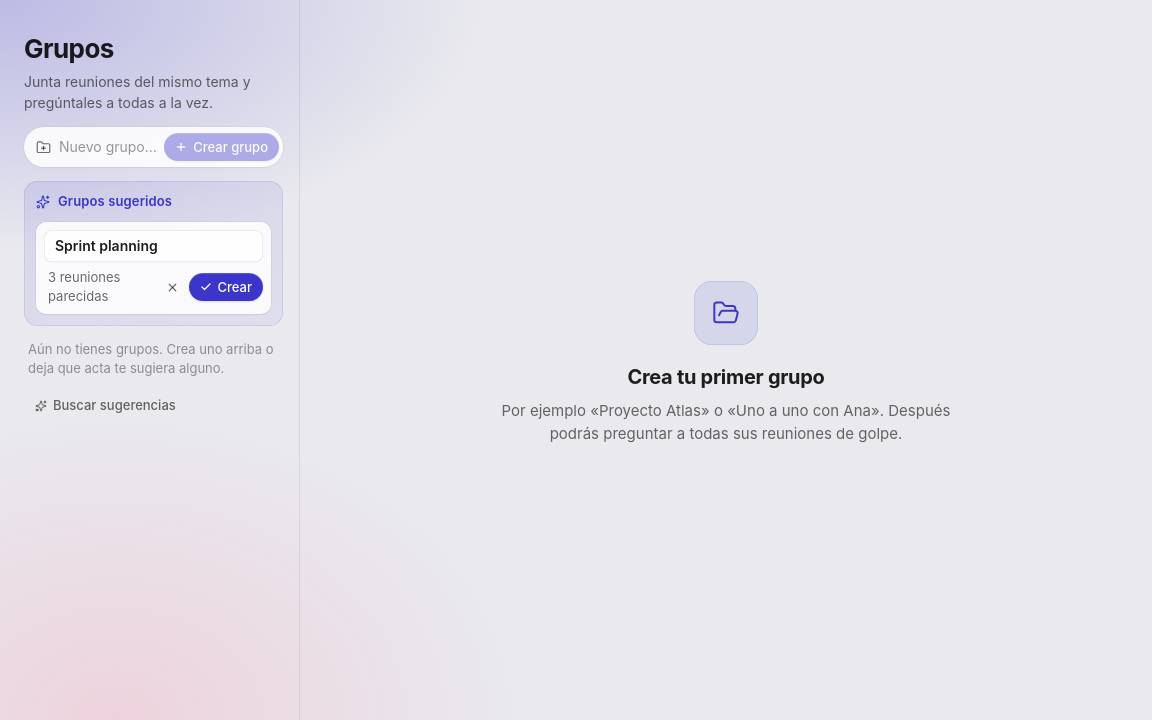
Test: GroupsContainer › acepta una sugerencia con otro nombre
Replace the text in the field named "Nombre de la sugerencia Sprint planning" with "Planificación" at (154, 246), box [44,230,263,262]
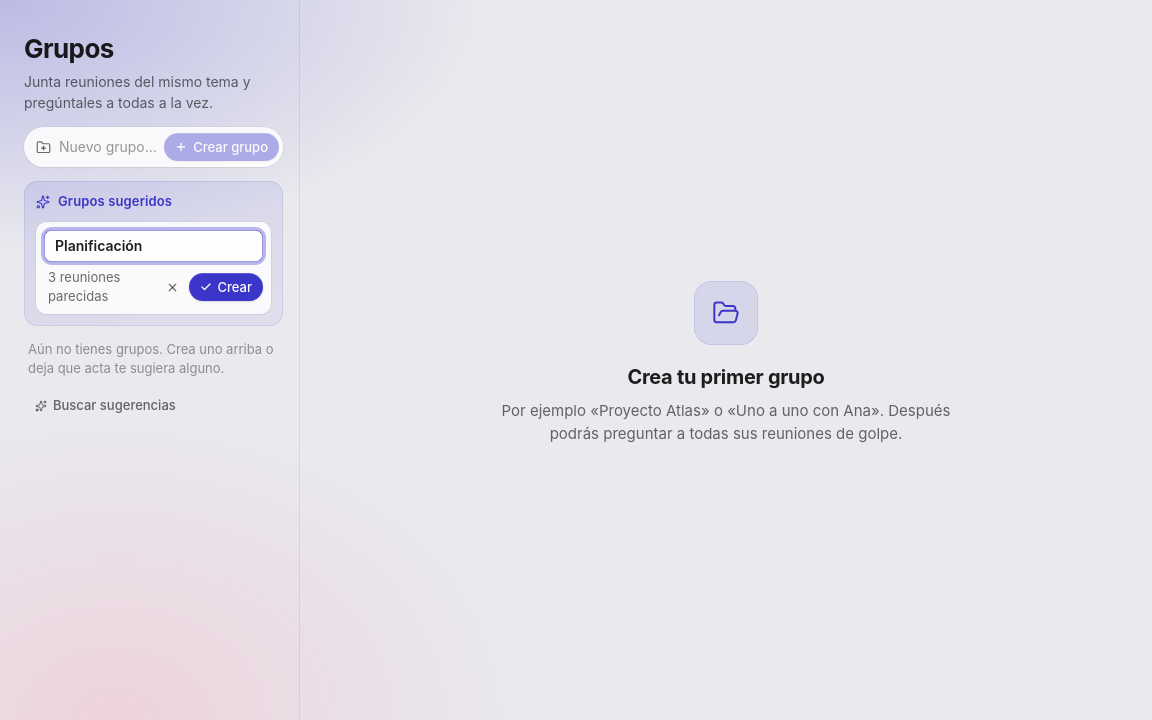
Click the button with aria-label "Aceptar Sprint planning".
click(226, 287)  # box [188,273,263,301]
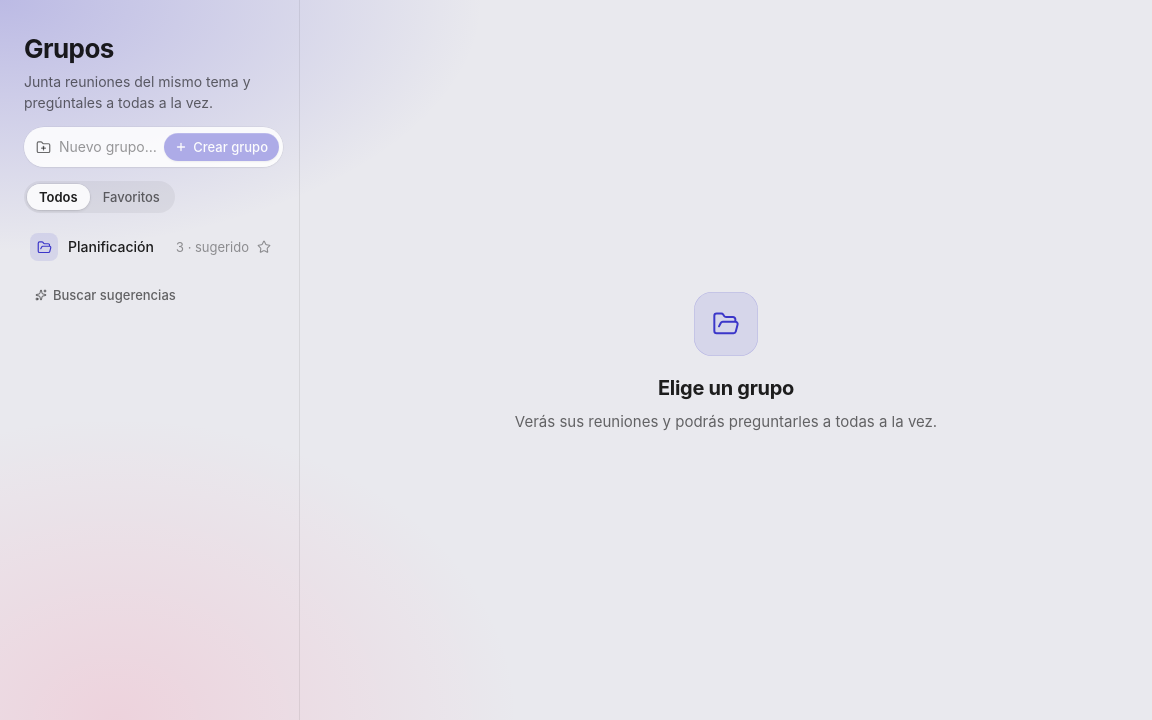
Expected: the text "Planificación" is shown, [68,237,166,257]
Expected: the heading "Grupos sugeridos" is gone
